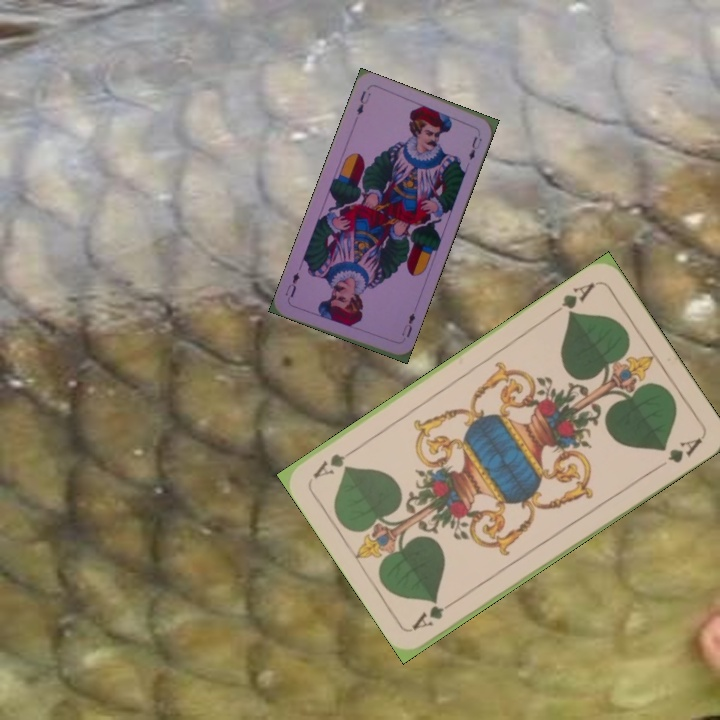EU: (352, 87, 374, 117), (398, 309, 418, 340)
GA: (408, 594, 462, 633), (547, 278, 597, 320)
